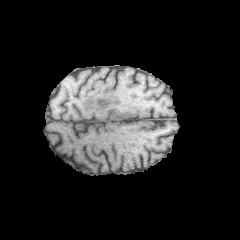glioma: (84, 89, 121, 111)
